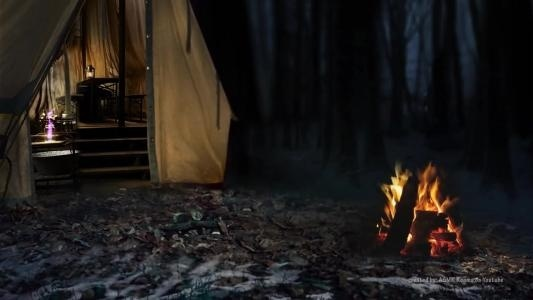fire: (378, 160, 464, 255)
